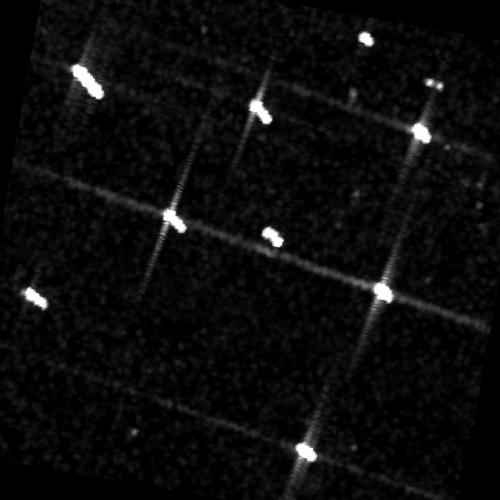ship: (70, 61, 104, 101), (247, 96, 273, 125), (23, 285, 49, 310), (162, 207, 187, 233), (261, 223, 285, 248), (294, 441, 318, 464), (372, 279, 393, 303), (409, 121, 430, 145), (357, 30, 374, 47)
